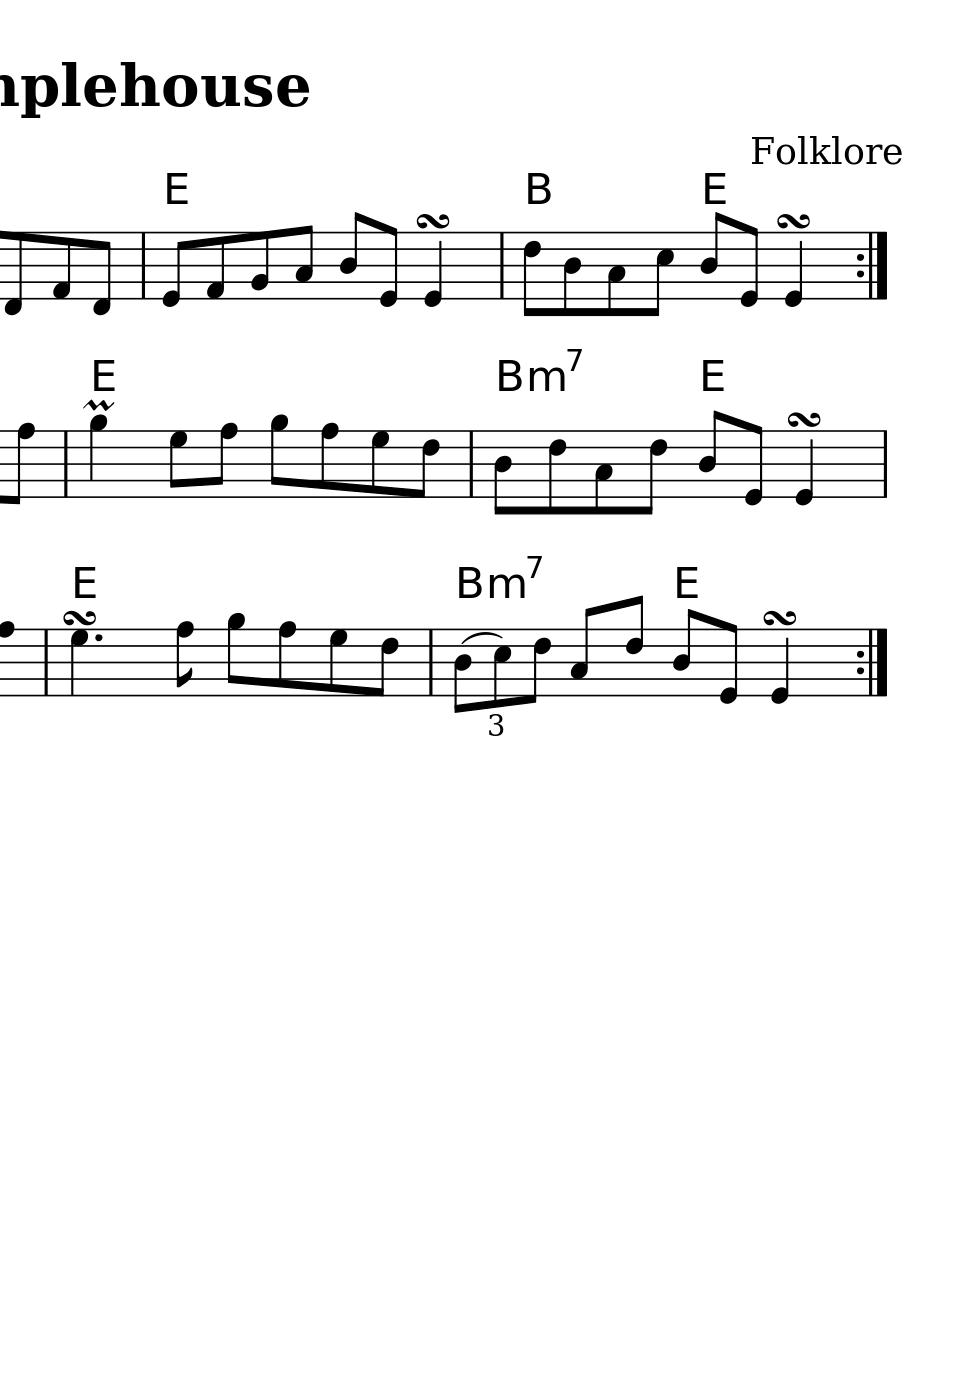3: (484, 710, 507, 740)
4_0: (767, 627, 792, 706), (792, 428, 816, 508), (781, 231, 804, 309), (422, 230, 444, 308)
4_7: (69, 627, 90, 700)
4_9: (86, 413, 109, 499)
7: (563, 345, 584, 373), (524, 552, 543, 580)
8_-1: (89, 230, 113, 318), (2, 229, 24, 316)
8_0: (158, 231, 188, 310), (375, 222, 400, 308), (736, 224, 760, 309), (741, 422, 765, 509), (716, 620, 739, 707), (49, 229, 73, 301)
8_1: (203, 230, 227, 302)
8_2: (248, 229, 272, 302)
8_3: (568, 606, 597, 699), (603, 229, 626, 318), (592, 428, 614, 516), (292, 224, 314, 302)
8_4: (337, 210, 366, 302), (697, 409, 725, 499), (699, 211, 727, 302), (671, 607, 698, 698), (560, 230, 583, 319), (491, 429, 514, 517), (451, 626, 472, 716)
8_5: (648, 229, 673, 320), (491, 627, 512, 710)
8_6: (638, 427, 669, 517), (623, 594, 644, 699), (524, 627, 552, 707), (520, 230, 544, 319), (412, 429, 440, 501), (545, 428, 567, 517), (372, 627, 399, 698)
8_7: (167, 429, 189, 499), (369, 429, 390, 501), (327, 627, 348, 698)
8_8: (3, 420, 36, 506), (209, 421, 238, 501), (317, 421, 340, 499), (173, 620, 195, 699), (276, 619, 297, 697)
8_9: (225, 612, 247, 698), (268, 413, 290, 501)
RightRepeatSign: (853, 231, 891, 301), (854, 628, 890, 699)
ShortTrill: (81, 397, 116, 413)
Single_barline: (57, 429, 75, 496), (37, 629, 55, 696), (876, 429, 893, 499), (493, 232, 510, 299), (134, 233, 151, 299), (463, 431, 479, 497), (423, 629, 438, 697)
Slur: (460, 630, 501, 645)
Turn: (414, 211, 451, 231), (786, 409, 823, 429), (60, 607, 98, 627), (762, 607, 797, 628), (775, 211, 810, 231)
dot: (92, 631, 104, 644)
